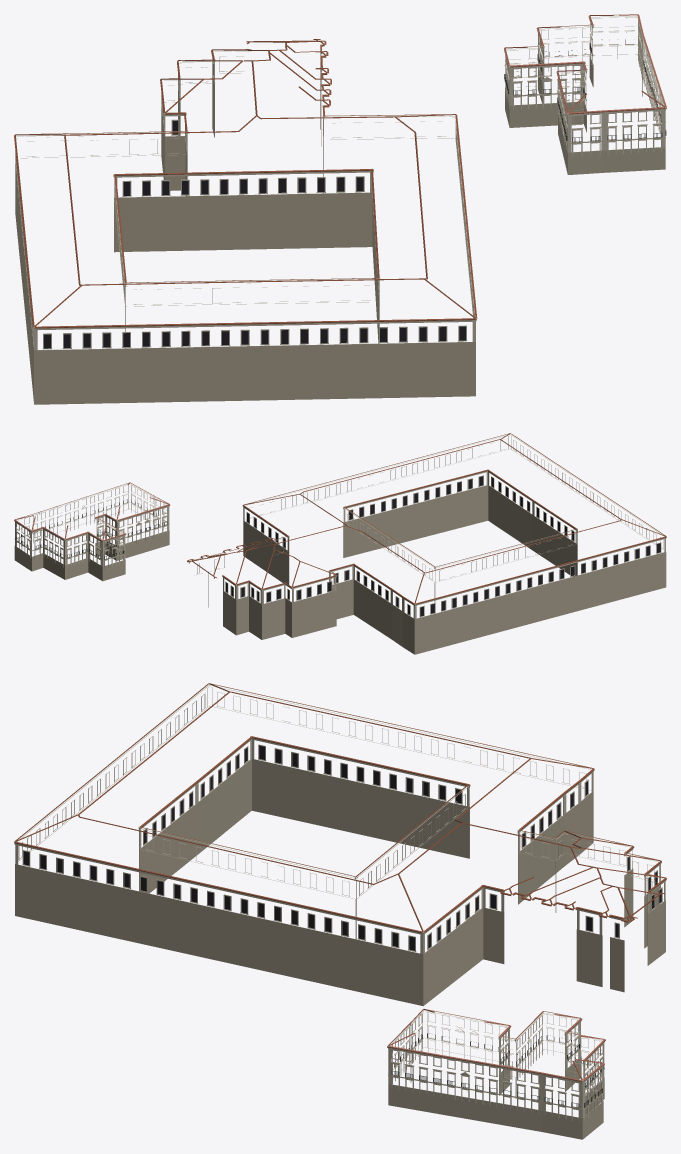
3 views of the same model, one above another, from view 1: azimuth 30°, elevation 25°; view 2: azimuth 150°, elevation 25°; view 3: azimuth 270°, elevation 25° (orthographic). The views are drawn at different scales.
Parts seen in each view (by area): view 1: detail; view 2: detail; view 3: detail.
Part boxes in pixels (x1=…): detail: x1=14, y1=14, x2=666, y2=404; detail: x1=14, y1=433, x2=666, y2=654; detail: x1=14, y1=683, x2=666, y2=1139.
Bounding box in the file's own units: 168 × 23.3 × 124.
